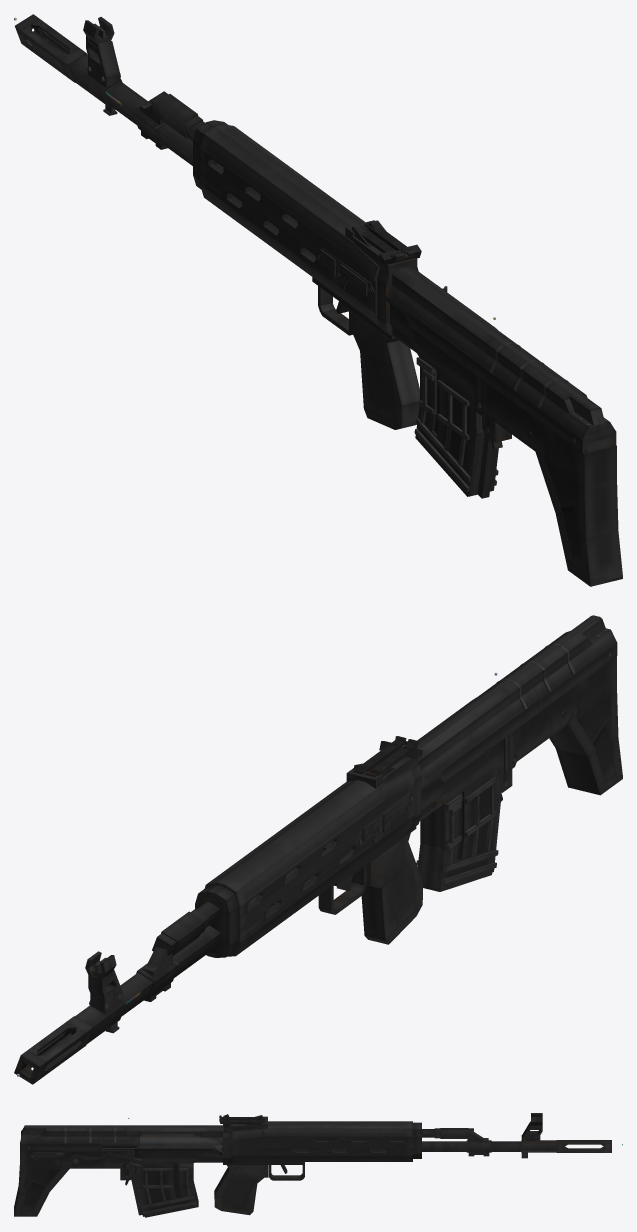
The model's file is a8_svu.geo.fbx.
The picture shows the model from 3 angles, top to bottom: view 1: azimuth 30°, elevation 25°; view 2: azimuth 150°, elevation 25°; view 3: azimuth 270°, elevation 25°; orthographic projection. The views are drawn at different scales.
Parts seen in each view (by area): view 1: reciever, handguard2, dustcover, magazine, pistolgrip, barrel, frontsight, bone5, rearsight, mbrake, handguard, sidemount (+1 smaller); view 2: handguard2, reciever, dustcover, magazine, barrel, pistolgrip, handguard, frontsight, mbrake, rearsight, bone5, handguard3 (+1 smaller); view 3: handguard3, reciever, dustcover, magazine, pistolgrip, barrel, bolt, bone6, frontsight, handguard, rearsight, mbrake (+3 smaller).
Part boxes in pixels (x1,y1,x2,y2): reciever: (318,286,622,586); handguard2: (200,124,379,325); dustcover: (386,266,616,453); magazine: (414,357,498,498); pistolgrip: (349,308,419,429); barrel: (105,81,315,255); frontsight: (69,17,122,115); bone5: (389,265,592,410); rearsight: (345,220,421,274); mbrake: (15,14,86,82); handguard: (193,120,418,339); sidemount: (315,247,374,296); handguard2: (217,769,414,956); reciever: (318,656,622,914); dustcover: (416,615,617,789); magazine: (416,768,501,891); barrel: (120,842,348,1016); pistolgrip: (361,833,422,944); handguard: (195,764,421,957); frontsight: (70,951,126,1043); mbrake: (14,1016,92,1084); rearsight: (346,736,422,788); bone5: (418,617,601,760); handguard3: (204,780,409,912); handguard3: (232,1123,412,1162); reciever: (14,1139,304,1216); dustcover: (21,1125,222,1150); magazine: (131,1163,198,1217); pistolgrip: (214,1165,268,1215); barrel: (293,1128,521,1156); bolt: (136,1134,223,1156); bone6: (24,1126,223,1131); frontsight: (521,1113,556,1158); handguard: (223,1122,421,1164); rearsight: (219,1114,267,1132); mbrake: (556,1140,611,1152).
Size of the model in its own units: 46.39 by 131 by 729.
1 material, 1 textured.
